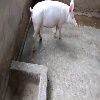heo: (28, 1, 81, 52)
